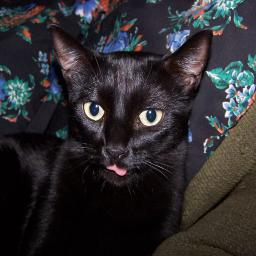catnose: (104, 144, 128, 163)
